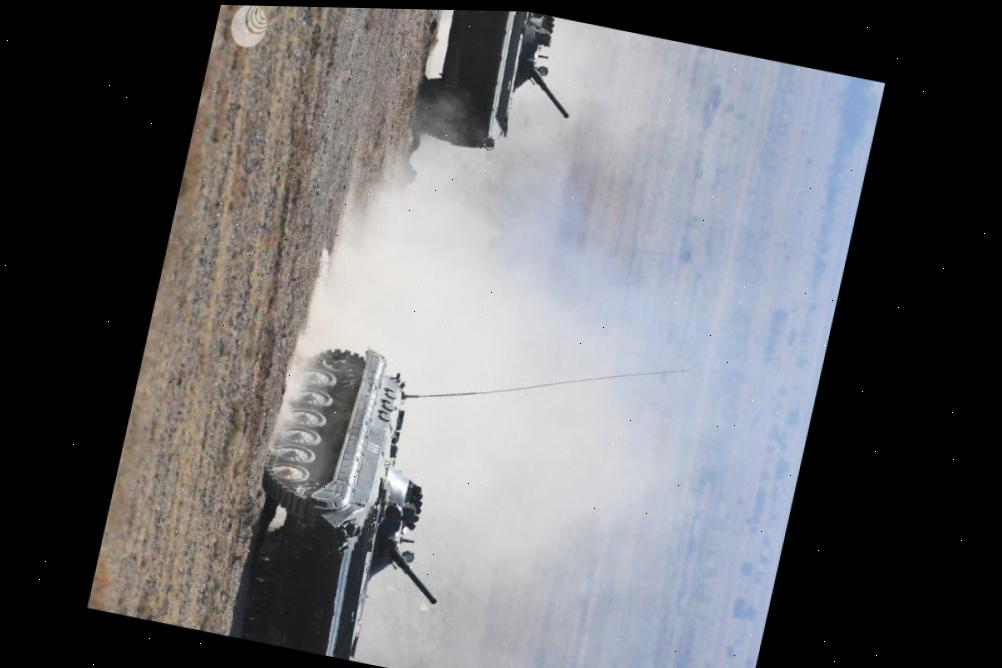tank: (225, 330, 492, 668), (399, 9, 592, 167)
